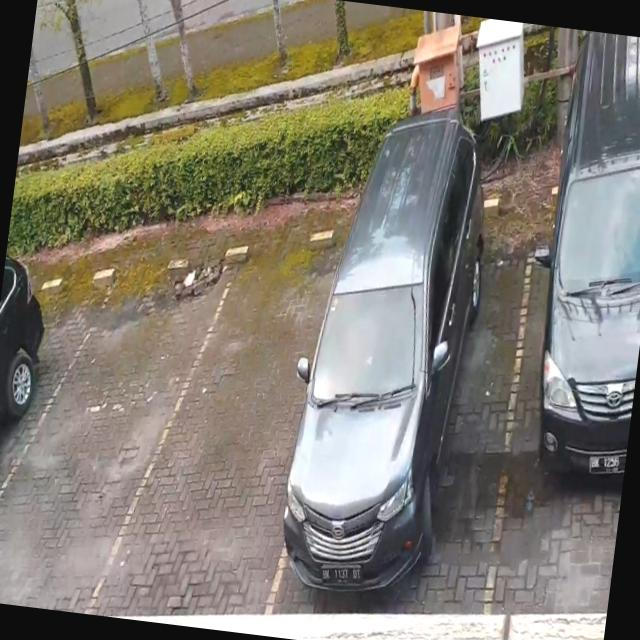car: (278, 213, 539, 640), (490, 128, 640, 583), (0, 250, 73, 597)
free: (134, 217, 328, 624), (27, 249, 196, 621)
